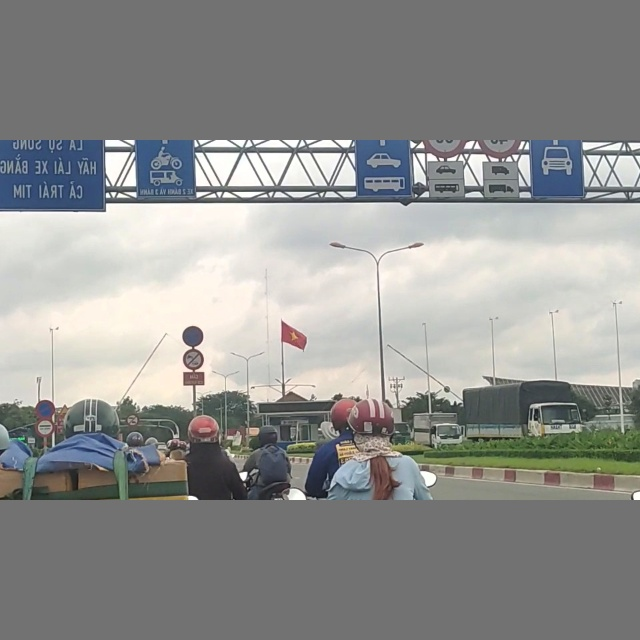P.107: (127, 414, 140, 426)
P.111: (182, 349, 204, 369)
P.129: (35, 418, 53, 437)
P.130: (181, 325, 204, 347)
P.131a: (34, 400, 55, 418)
W.221b: (58, 404, 69, 417)
